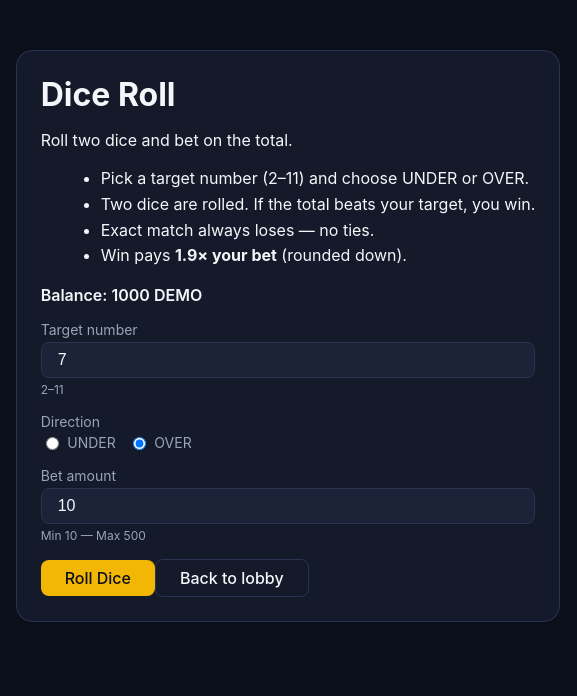
Test: DiceRoll › submits a bet with move and shows the win result
Expected: the heading "Dice Roll" is shown, [41, 75, 175, 114]
Click the button "Roll Dice": (98, 578) [41, 560, 155, 596]
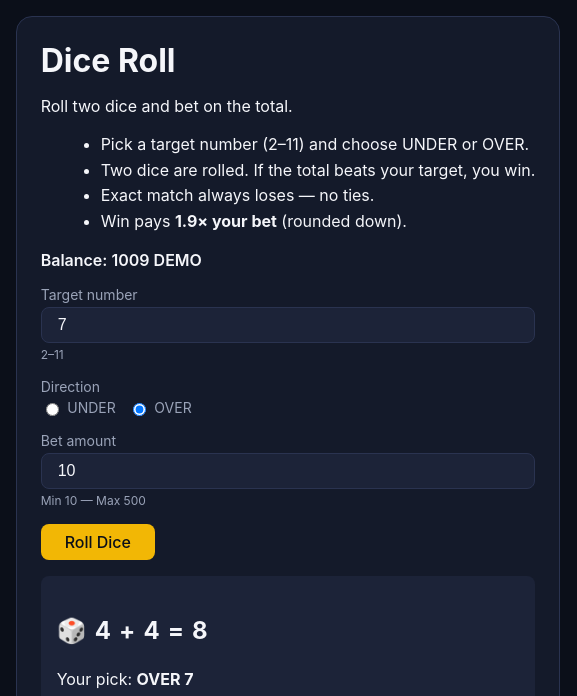
Expected: the text "Balance: 1009 DEMO" is shown, [41, 250, 202, 270]
